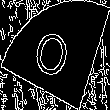O_SW: (32, 23, 78, 87)
